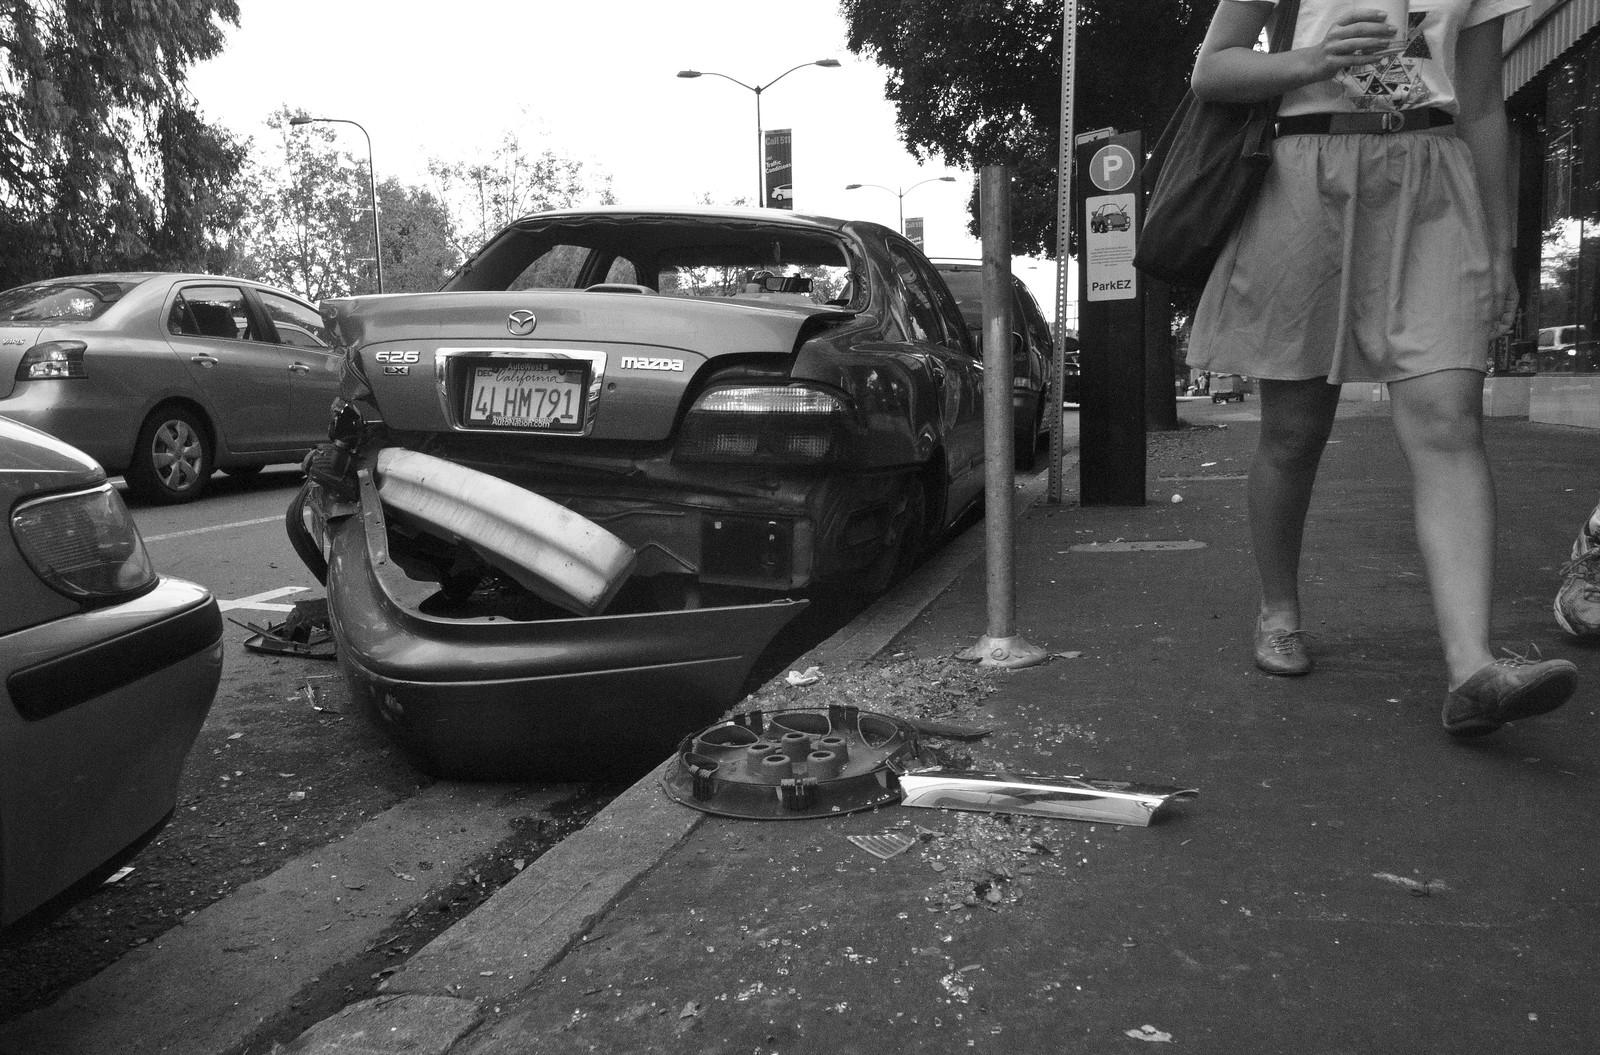rear-bumper-dent: (283, 423, 874, 644)
